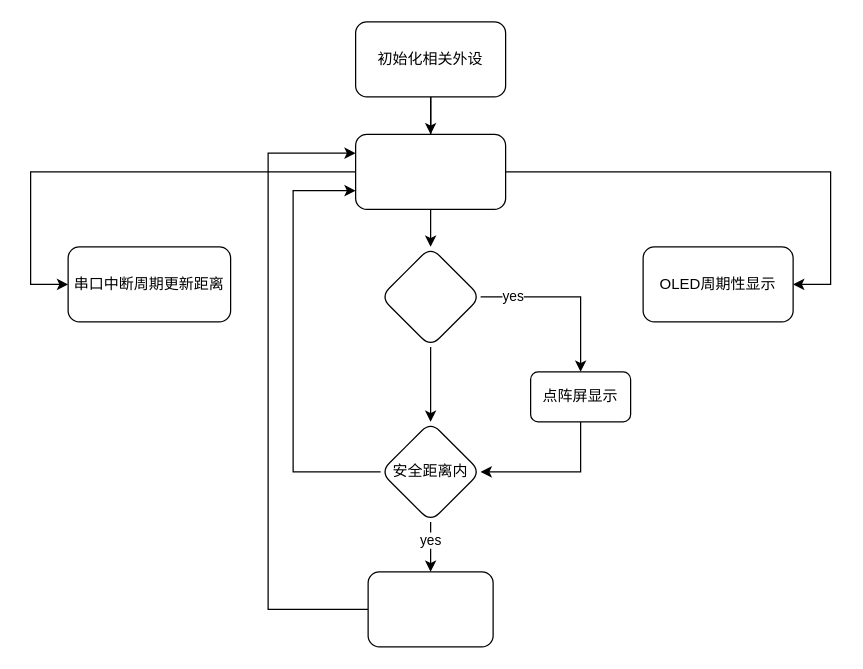
Image size: 863x669. Some labels were removed from this diagram. The centre of each missing label's shape, as x and y in pixels:
"按键按下" goes at point 430,296.
"蜂鸣器鸣叫" goes at point 430,609.
"进入while循环" goes at point 430,171.
